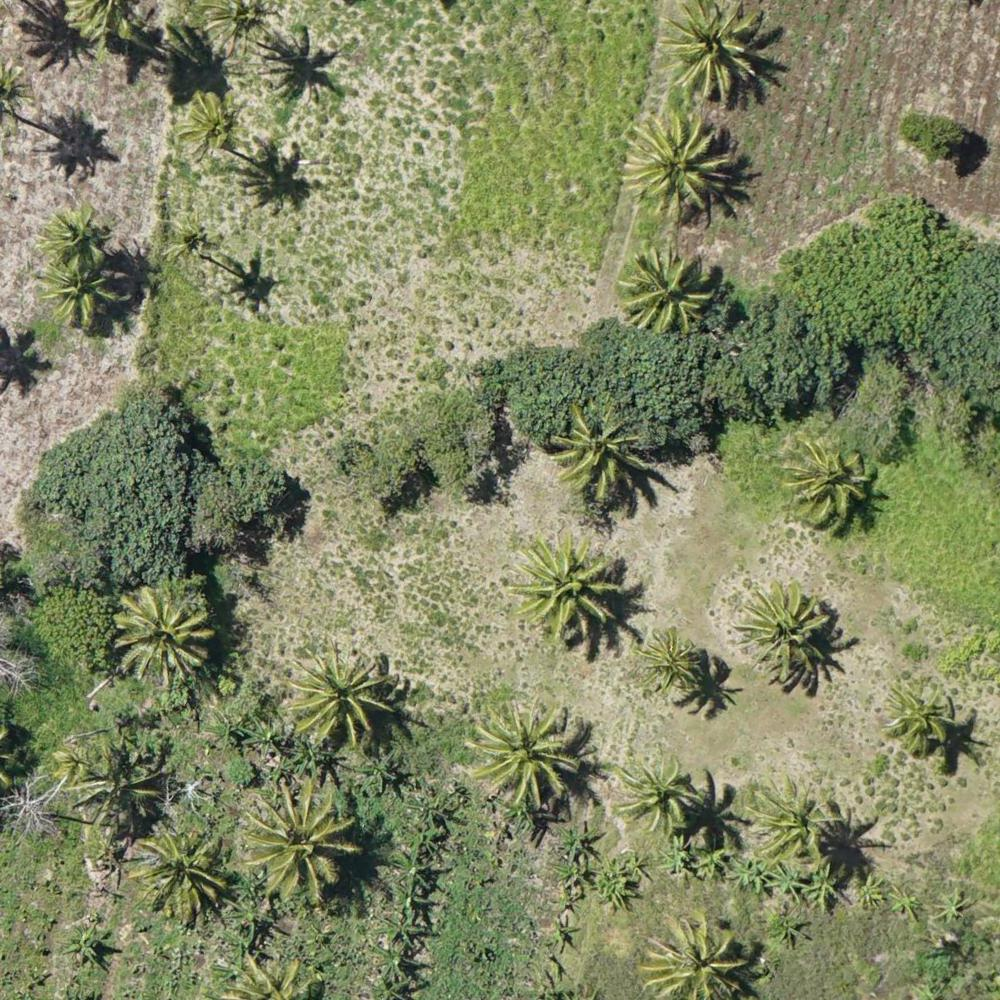Palm: (245, 783, 357, 895), (624, 112, 737, 212), (475, 700, 578, 804), (517, 535, 620, 634), (289, 642, 393, 740), (664, 2, 768, 97), (642, 912, 748, 1000), (116, 589, 211, 680), (742, 583, 832, 675), (140, 824, 225, 921), (552, 407, 643, 494), (622, 251, 715, 331), (783, 436, 872, 519), (618, 752, 701, 836), (748, 781, 829, 855), (42, 258, 122, 330), (885, 679, 953, 749), (40, 207, 109, 271), (176, 89, 241, 154), (637, 633, 700, 694), (163, 217, 214, 264)
